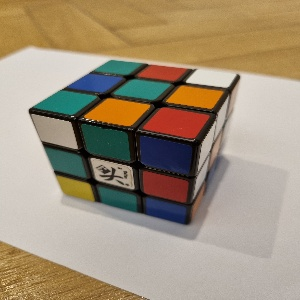cube: (29, 60, 242, 226)
